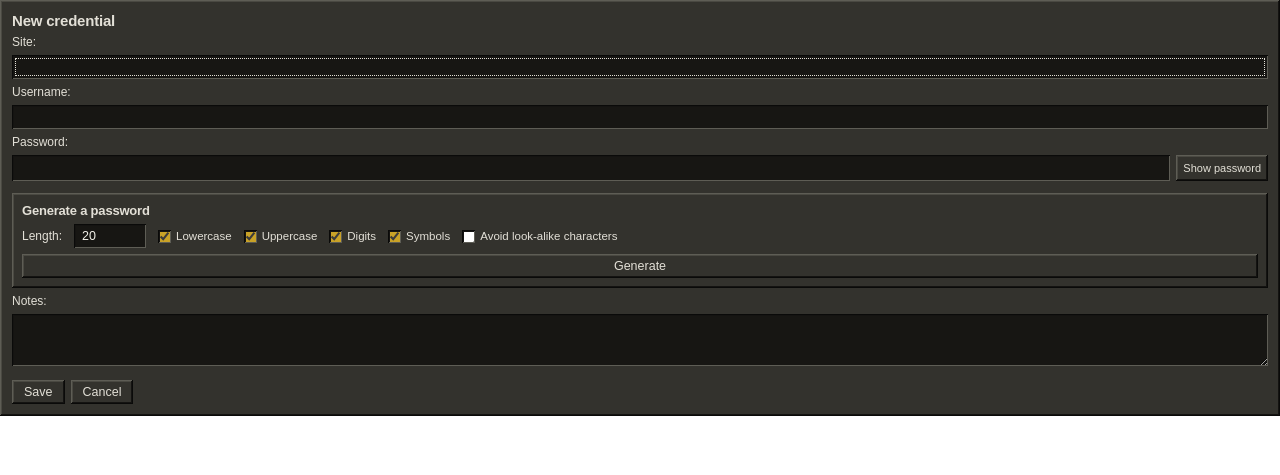
Test: EntryForm › refuses a credential without a site
Type "hunter2" into the password field labelled "Password:" at point(591, 168), box [12,155,1170,181]
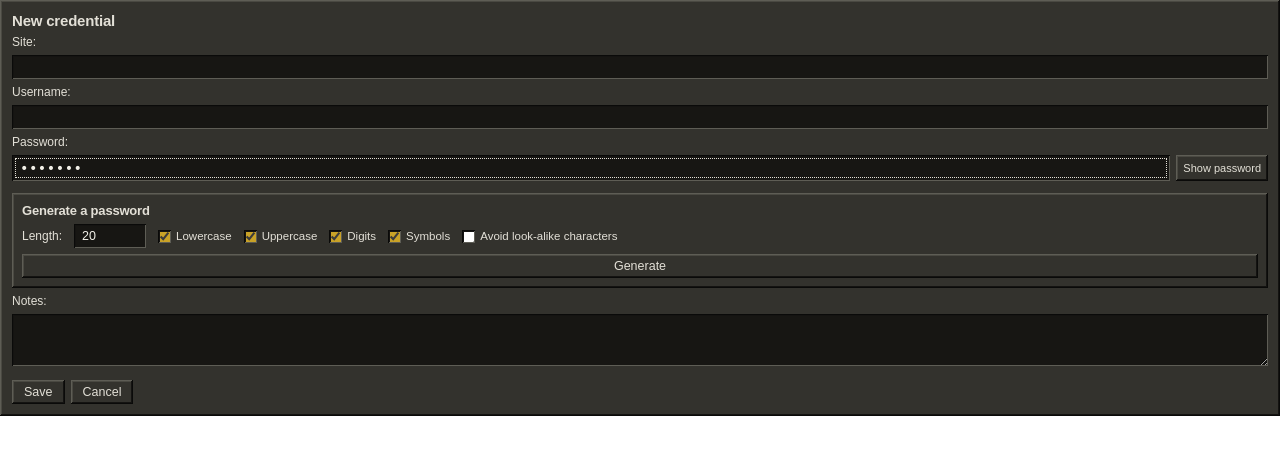
Click the button "Save" at point(38, 392), box [12,380,64,404]
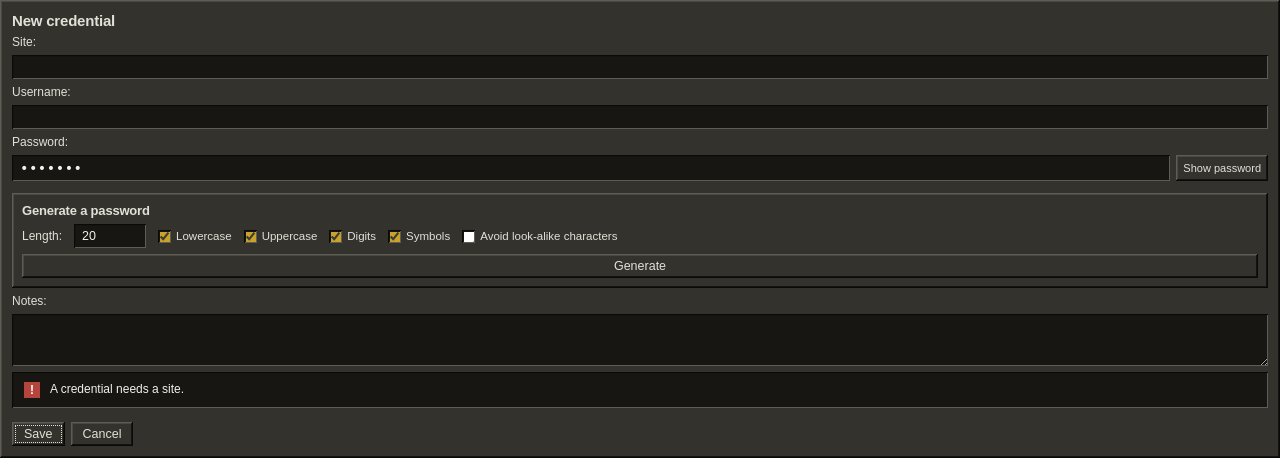
Result: the message shows "site" at [50,382,184,396]
